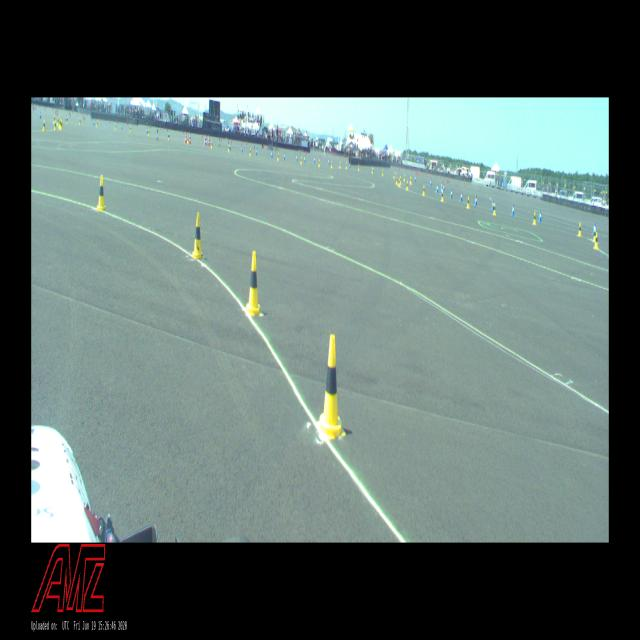blue_cone: (593, 223, 596, 234), (539, 211, 542, 221), (512, 204, 514, 216), (492, 200, 494, 210), (460, 192, 462, 201), (450, 189, 452, 198), (475, 196, 477, 205), (436, 184, 438, 192), (430, 179, 432, 186), (443, 184, 445, 191), (65, 115, 67, 122), (121, 123, 123, 130), (206, 139, 208, 146), (440, 182, 442, 189), (93, 119, 95, 125), (296, 156, 298, 161), (441, 187, 442, 195), (256, 148, 257, 155), (284, 153, 285, 159), (40, 112, 41, 118), (415, 176, 416, 182), (314, 157, 315, 163), (230, 144, 231, 150), (147, 128, 148, 134), (304, 157, 305, 162), (328, 159, 329, 164), (349, 163, 350, 168), (372, 167, 373, 172), (242, 146, 242, 152), (272, 152, 272, 158), (396, 171, 396, 177), (168, 132, 168, 138)
large_orange_cone: (189, 132, 191, 144), (185, 132, 187, 143), (208, 135, 210, 146), (205, 135, 206, 145)
yellow_cone: (317, 336, 345, 440), (245, 252, 262, 315), (192, 212, 203, 259), (97, 175, 106, 210), (595, 232, 598, 249), (593, 228, 596, 242), (578, 222, 581, 235), (533, 211, 536, 224), (467, 197, 469, 208), (43, 120, 45, 131), (494, 204, 496, 215), (442, 190, 444, 201), (409, 177, 412, 184), (423, 185, 425, 195), (54, 121, 56, 130), (406, 181, 408, 190), (250, 148, 252, 156), (277, 153, 279, 161), (228, 144, 230, 152), (187, 136, 189, 144), (396, 177, 398, 184), (211, 141, 213, 148), (358, 164, 360, 171), (57, 118, 59, 125), (79, 118, 81, 125), (331, 162, 333, 168), (148, 129, 150, 135), (371, 167, 373, 173), (61, 120, 62, 130), (60, 119, 61, 127), (404, 174, 405, 182), (399, 178, 400, 186), (400, 176, 401, 184), (301, 157, 302, 164), (319, 160, 320, 167), (67, 116, 68, 123), (169, 133, 170, 140), (54, 116, 55, 122), (382, 170, 383, 176), (346, 163, 347, 169), (130, 126, 131, 132), (97, 121, 98, 127), (115, 124, 116, 129), (340, 162, 340, 168), (394, 172, 394, 179)
